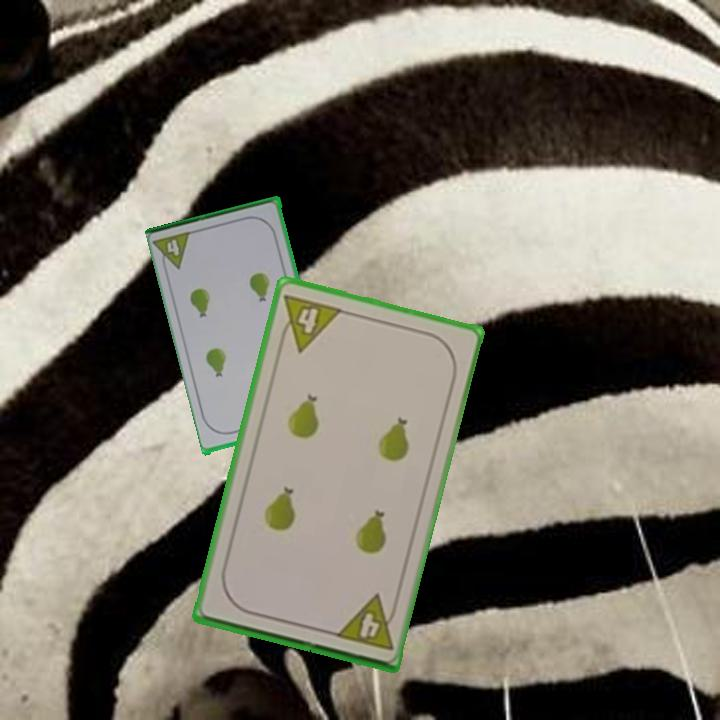4p: (274, 290, 345, 355), (331, 591, 401, 654), (152, 228, 196, 275)
